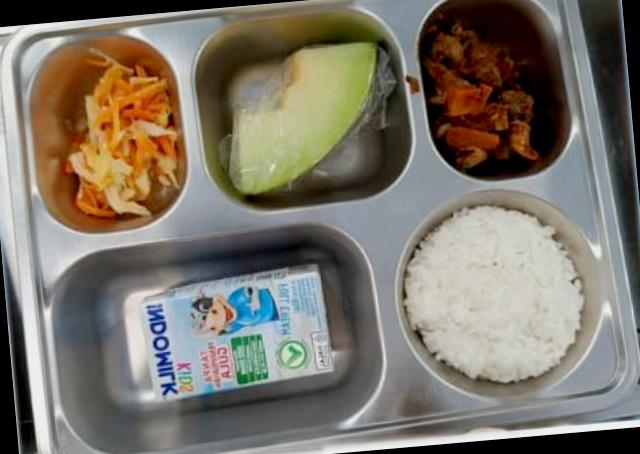ayam: (420, 21, 552, 173)
buah: (228, 42, 376, 195)
nasi: (403, 206, 583, 383)
sayur: (62, 52, 178, 219)
susu: (137, 264, 334, 402)
